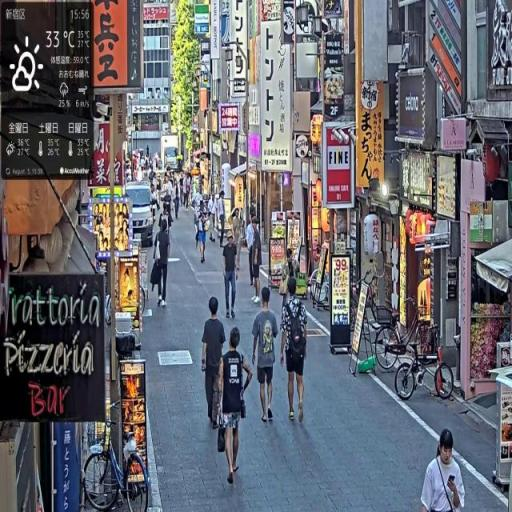person: (218, 328, 255, 487), (281, 276, 311, 427), (250, 284, 280, 430), (421, 429, 466, 511), (201, 295, 227, 431), (152, 217, 173, 310), (223, 229, 241, 322)
